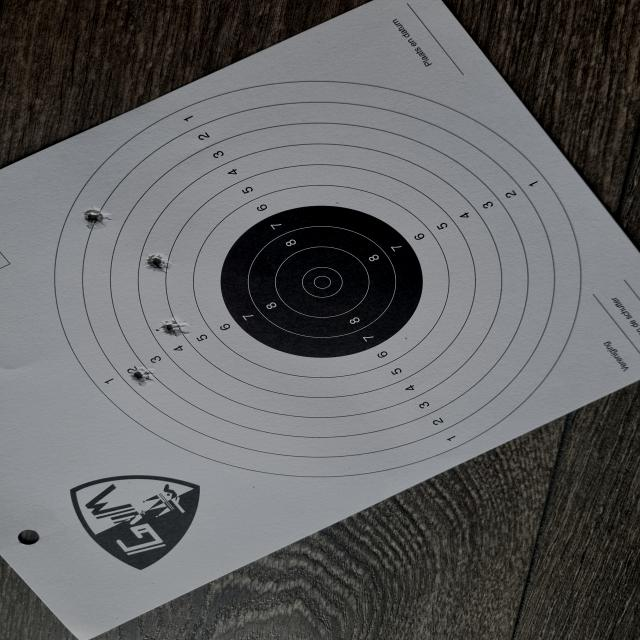2: (84, 209, 110, 229)
3: (131, 366, 155, 386)
5: (146, 255, 172, 274), (160, 320, 190, 336)
Target: (52, 80, 582, 479)
black_contour: (220, 205, 422, 357)
